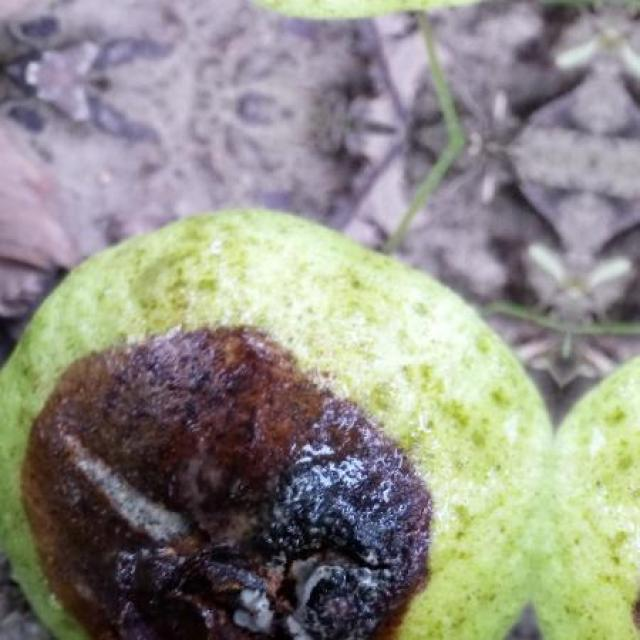Styler and Root: (0, 210, 640, 640)
